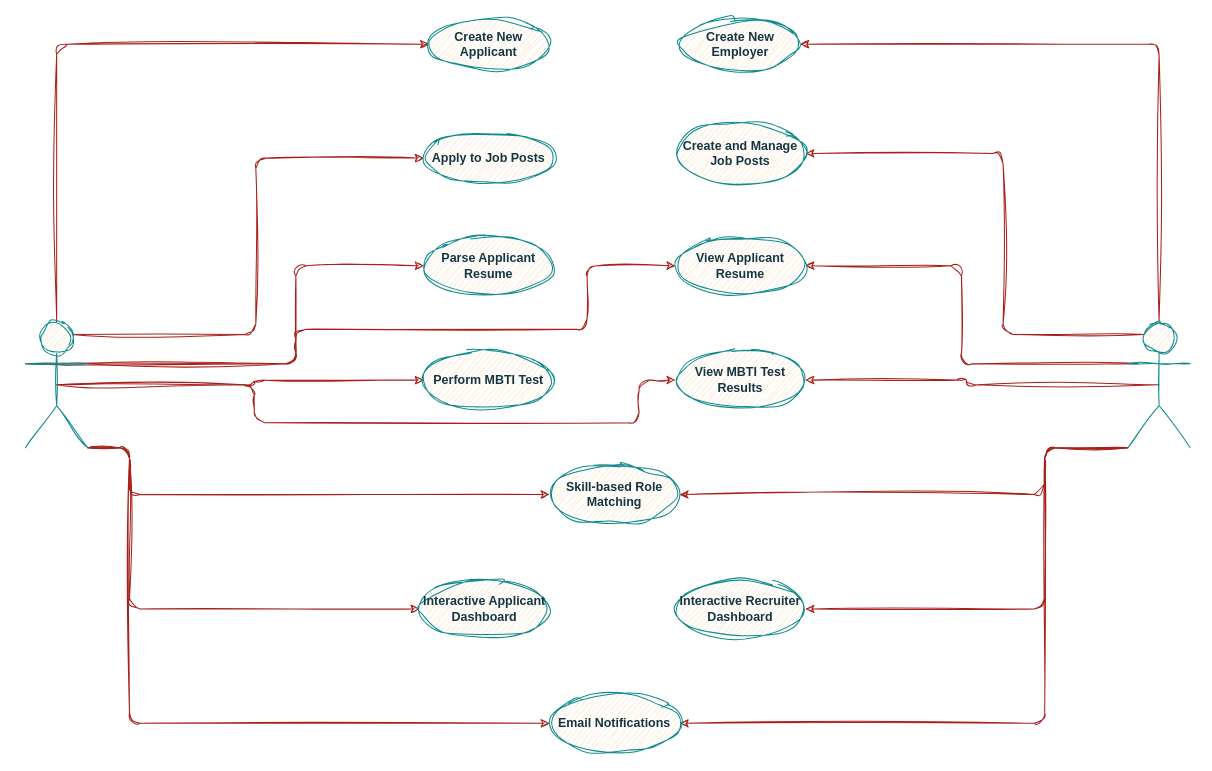
Image size: 1212x771. Some labels were removed from this diagram. Each missing label, with the centre of its shape:
APPLICANT: the point at 56,384
EMPLOYER: the point at 1158,384
